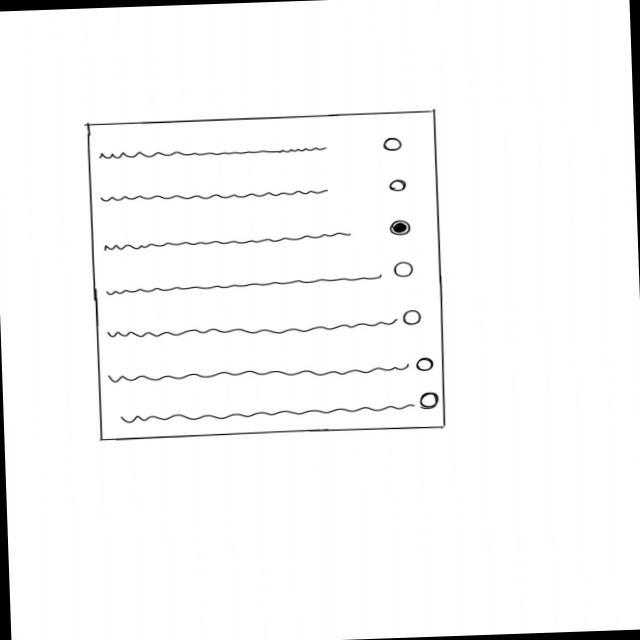container: (84, 109, 450, 445)
radio: (105, 260, 419, 299), (103, 218, 415, 255), (120, 391, 443, 425), (106, 308, 426, 341), (105, 356, 438, 385), (97, 177, 410, 205), (98, 136, 406, 163)
